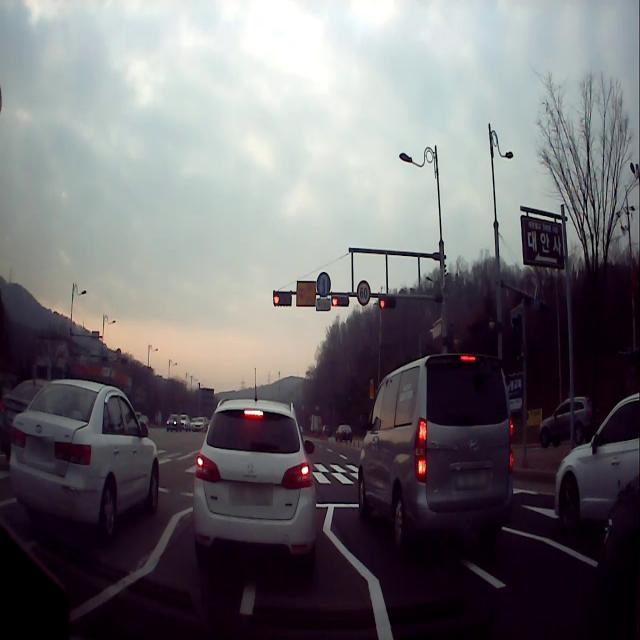Red Light: (273, 291, 280, 306), (379, 296, 385, 310), (332, 294, 338, 307)
